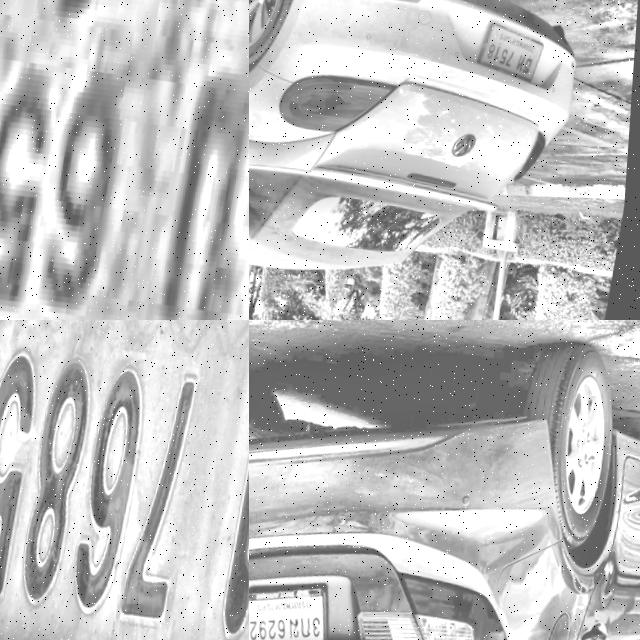license-plate: (0, 0, 249, 320), (0, 320, 249, 640), (249, 568, 344, 640), (474, 14, 548, 82)
